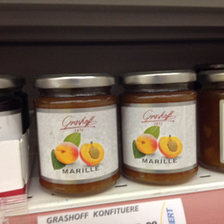jam: (33, 73, 122, 195), (119, 68, 199, 185)
